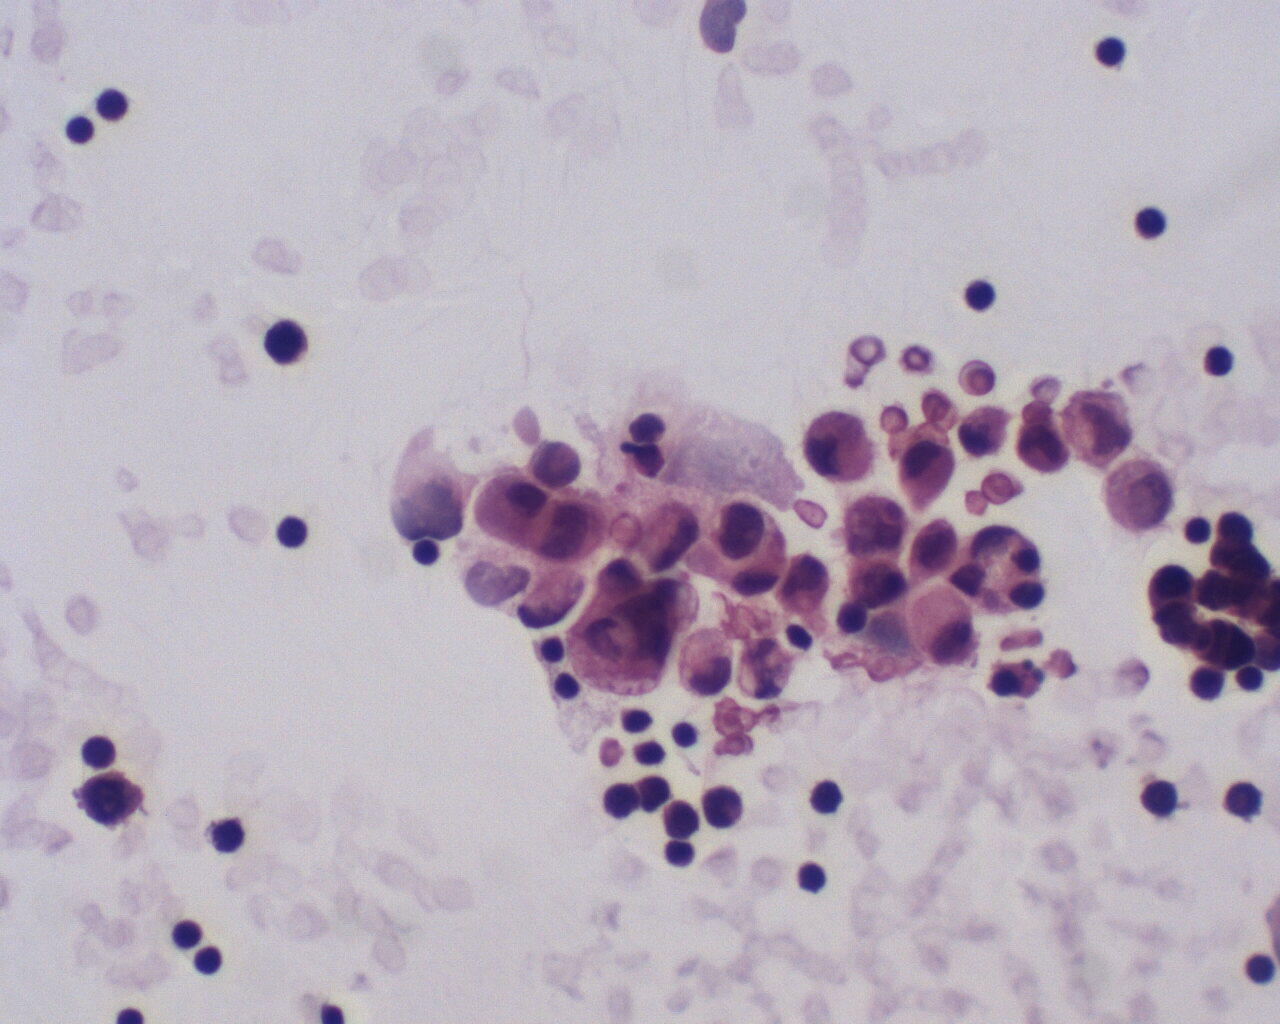ab: (802, 408, 878, 482), (535, 489, 607, 565), (704, 496, 770, 560), (897, 439, 955, 510), (905, 514, 960, 581)
lymph: (276, 508, 315, 555), (1134, 200, 1172, 243), (1092, 33, 1132, 73), (63, 109, 98, 152), (1202, 343, 1239, 381), (961, 278, 998, 317), (408, 536, 447, 571), (169, 914, 205, 950), (667, 718, 704, 750), (1181, 513, 1216, 546)
meso: (1097, 458, 1176, 533), (908, 583, 975, 669), (675, 625, 736, 696)
